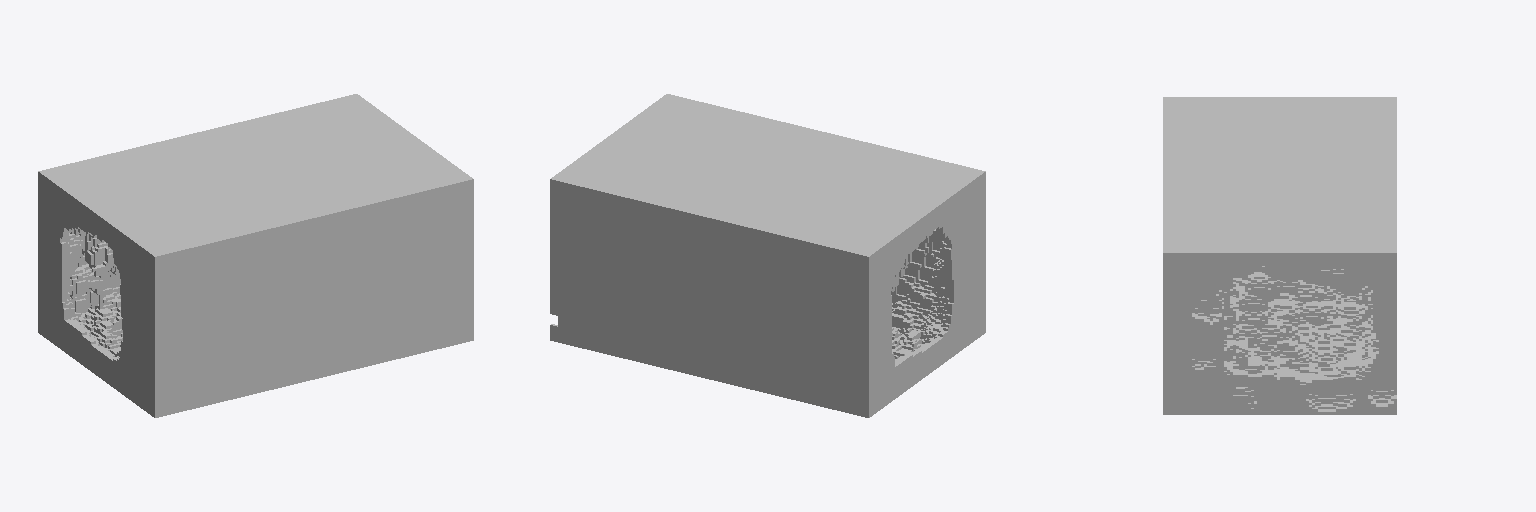
File: Level 1 Pathway 1.2.obj
3 views of the same model, side by side, from view 1: azimuth 30°, elevation 25°; view 2: azimuth 150°, elevation 25°; view 3: azimuth 270°, elevation 25° (orthographic).
Size of the model in its own units: 126 by 61 by 80.